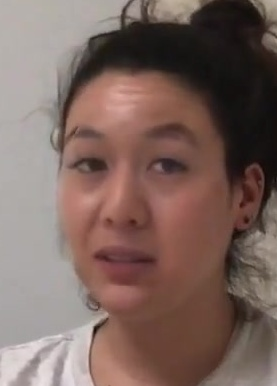eb_f: (62, 120, 204, 186)
